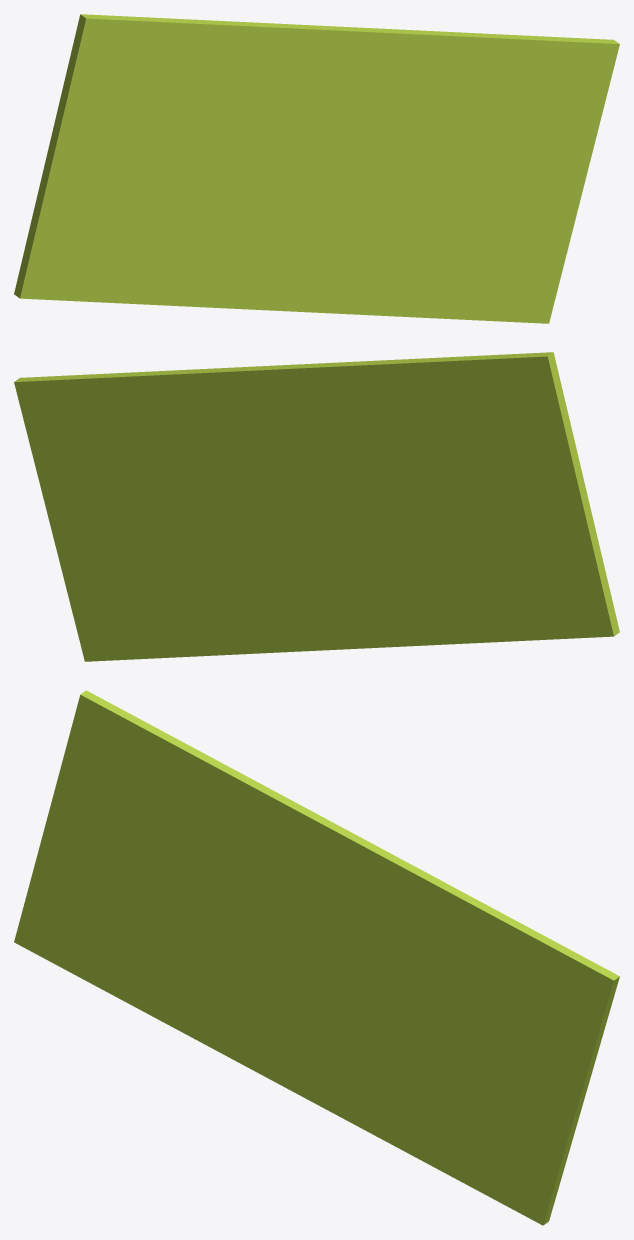
3 views of the same model, one above another, from view 1: azimuth 30°, elevation 25°; view 2: azimuth 150°, elevation 25°; view 3: azimuth 330°, elevation 25° (orthographic).
Visible parts, largest first — view 1: osm-way27917482-F0; view 2: osm-way27917482-F0; view 3: osm-way27917482-F0.
Part boxes in pixels (<box>): osm-way27917482-F0: <box>14,14,619,323</box>; osm-way27917482-F0: <box>14,352,619,661</box>; osm-way27917482-F0: <box>14,690,619,1225</box>.
Size of the model in its own units: 8.73 by 5.82 by 0.15.
